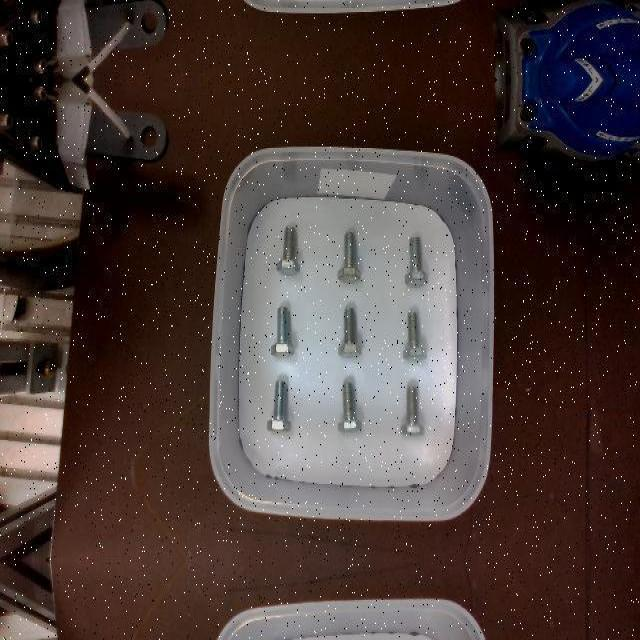screw: (266, 380, 291, 430), (400, 385, 425, 435), (404, 236, 428, 288), (403, 310, 427, 362), (276, 226, 300, 276), (270, 305, 294, 355), (337, 307, 361, 357), (338, 380, 362, 430), (338, 232, 361, 284)
